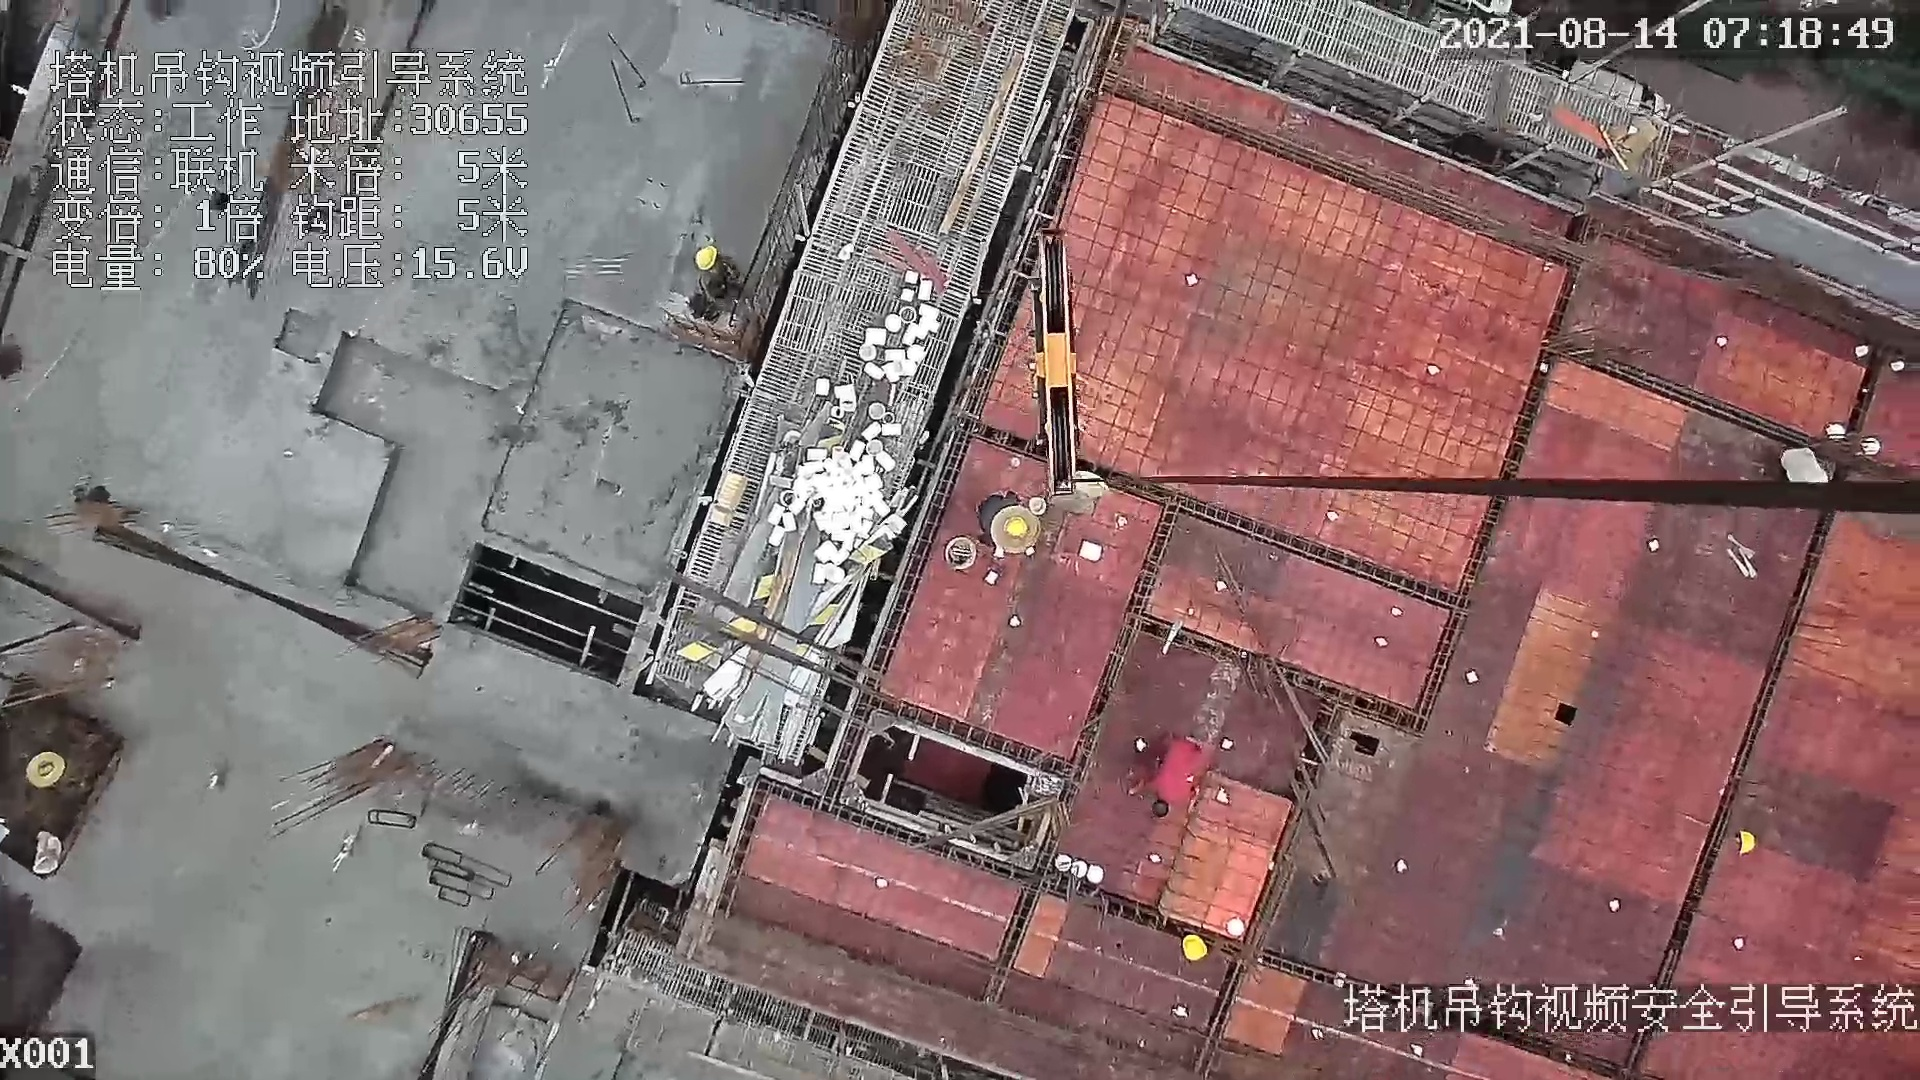helmet: (1173, 932, 1219, 967), (691, 246, 722, 272), (1004, 515, 1034, 541)
hook: (1018, 227, 1103, 501)
person: (1132, 732, 1200, 831), (978, 495, 1028, 559), (688, 245, 737, 304)
